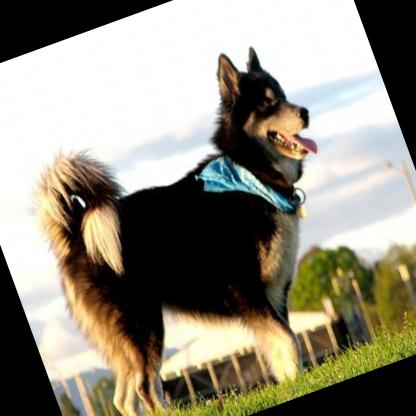Siberian_husky: (1, 29, 394, 416)
